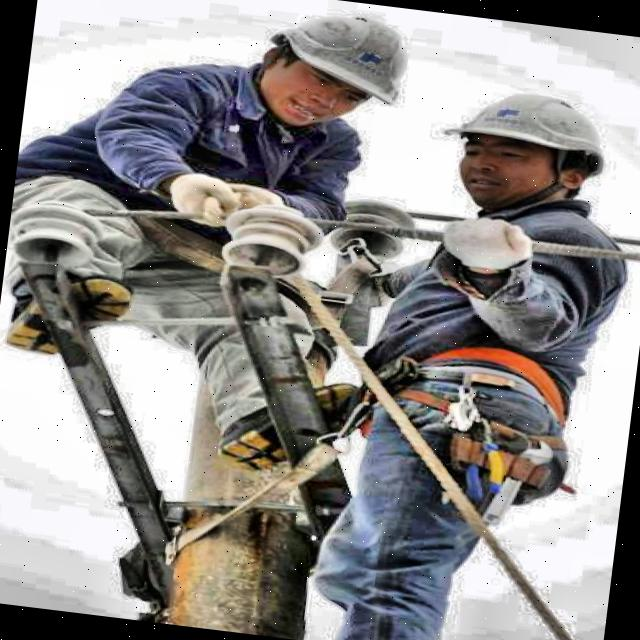helmet: (423, 56, 632, 227), (225, 0, 431, 141)
